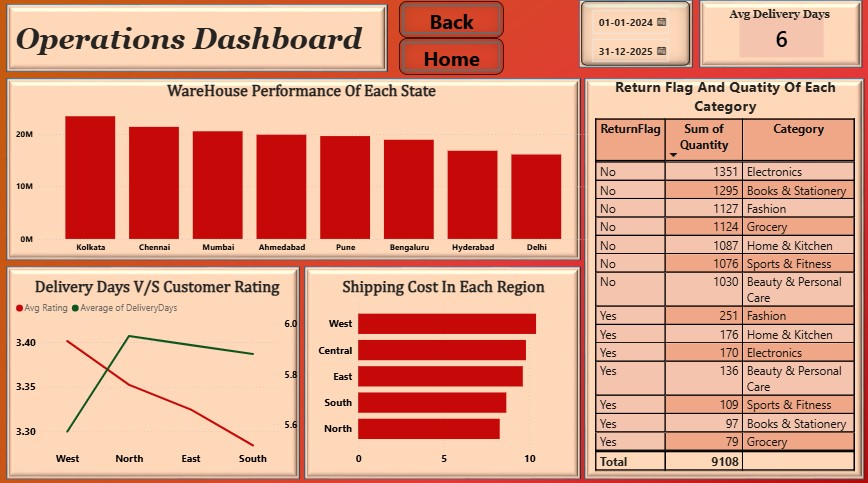

What the dashboard file says about the page in this screenshot:
{"tool":"powerbi","page":{"name":"Page 3","canvas":[1280,720],"ordinal":2},"visuals":[{"type":"textbox","box":[18.4,29.8,544.3,69.4],"z":0},{"type":"columnChart","title":"WareHouse Performance Of Each State","fields":{"Category":["Dim_Warehouse.WarehouseCity"],"Y":["Sum(Fact_Orders.Total Bill)"]},"box":[18.4,121.9,851.8,260.8],"z":1000},{"type":"cardVisual","fields":{"Data":["Fact_Orders.Avg Delivery Days"]},"box":[1083.6,19.2,134.2,72.6],"z":2000},{"type":"tableEx","fields":{"Values":["Fact_Orders.ReturnFlag","Sum(Fact_Orders.Quantity)","Dim_Products.Category"]},"box":[870.2,170.1,395.4,549.9],"z":3000},{"type":"barChart","title":"Shipping Cost In Each Region","fields":{"Category":["Dim_Customers.Region"],"Y":["Fact_Orders.Avg Shipping Cost"]},"box":[463.5,411,381.3,286.3],"z":4000},{"type":"lineChart","title":"Delivery Days V/S Customer Rating","fields":{"Y":["Fact_Orders.Avg Rating"],"Category":["Dim_Warehouse.Region"],"Y2":["Avg(Fact_Orders.DeliveryDays)"]},"box":[18.4,411,426.6,286.3],"z":5000},{"type":"actionButton","box":[588.3,3.3,154.5,53.9],"z":6000},{"type":"actionButton","box":[588.3,56.7,154.5,53.9],"z":7000},{"type":"textbox","box":[870.2,109.1,395.4,70.9],"z":8000},{"type":"slicer","fields":{"Values":["Dim_Date.Date"]},"box":[856.1,2.8,160.2,95],"z":9000},{"type":"textbox","box":[1068.5,6.8,167.1,45.2],"z":9001}]}

Visuals, with their boxes in screenshot pixels (x1, y1, x2, y2), scaled from the page's 1280x720 canvas onto the 868x483 screenshot:
textbox: 12:20:382:67
"WareHouse Performance Of Each State" columnChart: 12:82:590:257
cardVisual - Fact_Orders.Avg Delivery Days: 735:13:826:62
tableEx - Fact_Orders.ReturnFlag x Sum(Fact_Orders.Quantity): 590:114:858:482
"Shipping Cost In Each Region" barChart: 314:276:573:468
"Delivery Days V/S Customer Rating" lineChart: 12:276:302:468
actionButton: 399:2:504:38
actionButton: 399:38:504:74
textbox: 590:73:858:121
slicer - Dim_Date.Date: 581:2:689:66
textbox: 725:5:838:35
